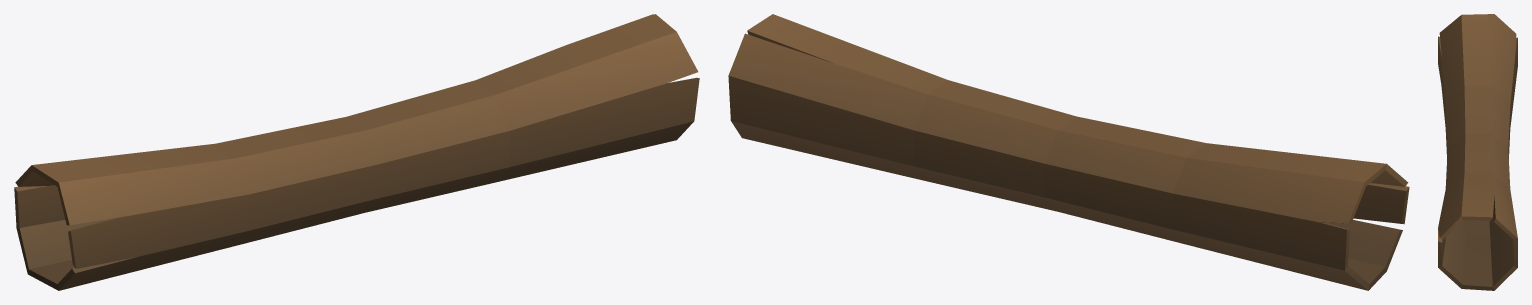
The model's file is Summer_Log_02.glb.
3 renders of one model, left to right at view 1: azimuth 30°, elevation 25°; view 2: azimuth 150°, elevation 25°; view 3: azimuth 270°, elevation 25°, orthographic. The views are drawn at different scales.
Parts seen in each view (by area): view 1: Summer_Log_02_LOD0; view 2: Summer_Log_02_LOD0; view 3: Summer_Log_02_LOD0.
Boxes of the visible parts, left/top/right/bottom form: Summer_Log_02_LOD0: left=14, top=14, right=699, bottom=290; Summer_Log_02_LOD0: left=728, top=14, right=1409, bottom=290; Summer_Log_02_LOD0: left=1438, top=14, right=1517, bottom=290.
Size of what is drawn, in the model's own units: 2.18 by 0.3587 by 0.3573.
Materials: 1 (1 with a texture image).
